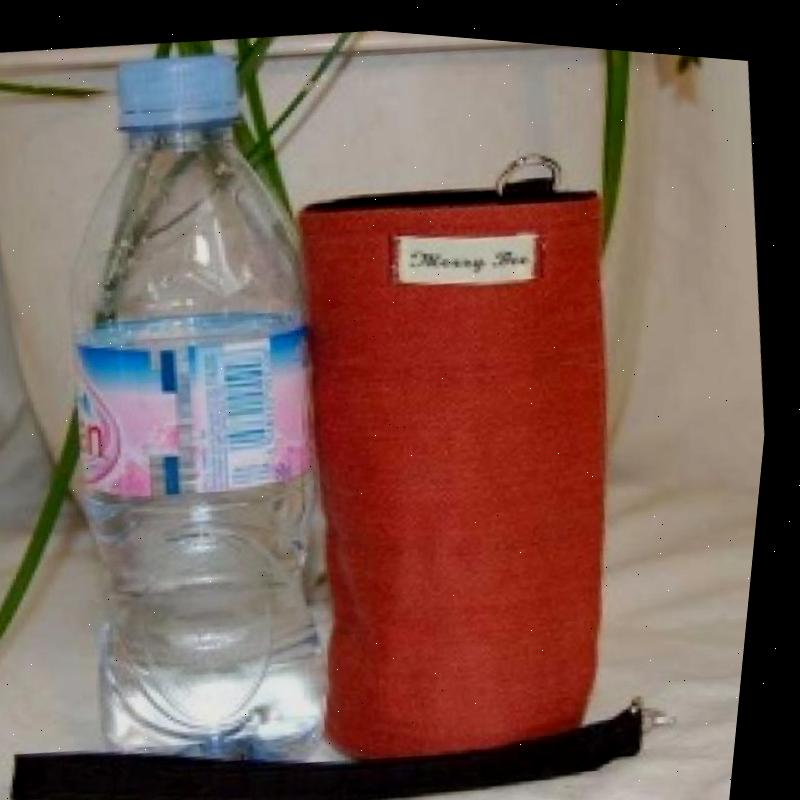botella: (1, 28, 407, 788)
